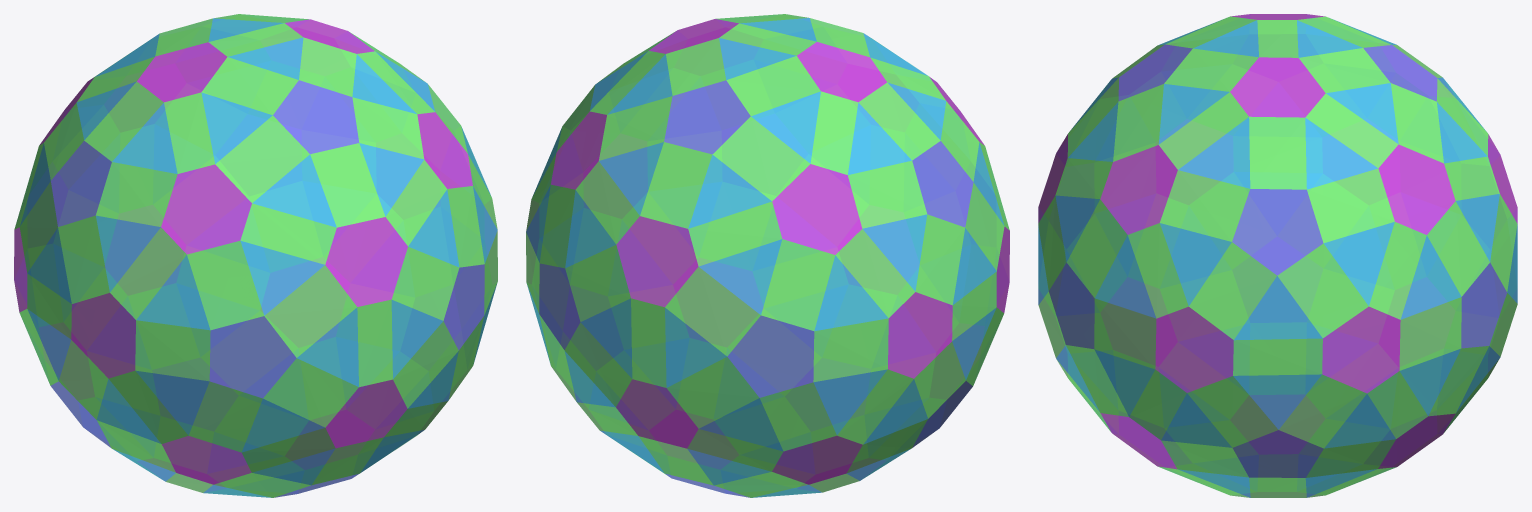
File: BiscribedSnubTruncatedIcosahedron.obj
The picture shows the model from 3 angles, left to right: view 1: azimuth 30°, elevation 25°; view 2: azimuth 150°, elevation 25°; view 3: azimuth 270°, elevation 25°; orthographic projection.
Bounding box in the file's own units: 2 × 2 × 2.
